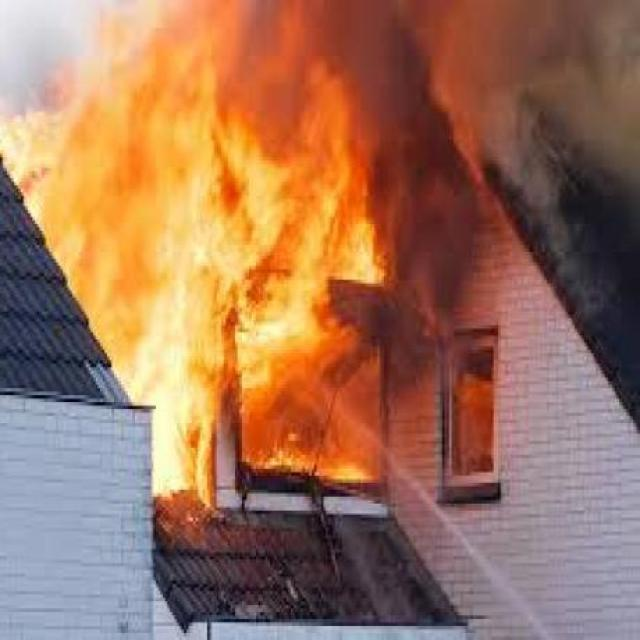Fire: (6, 4, 400, 524), (444, 357, 499, 492)
Smoke: (356, 6, 640, 191), (392, 172, 496, 348)
